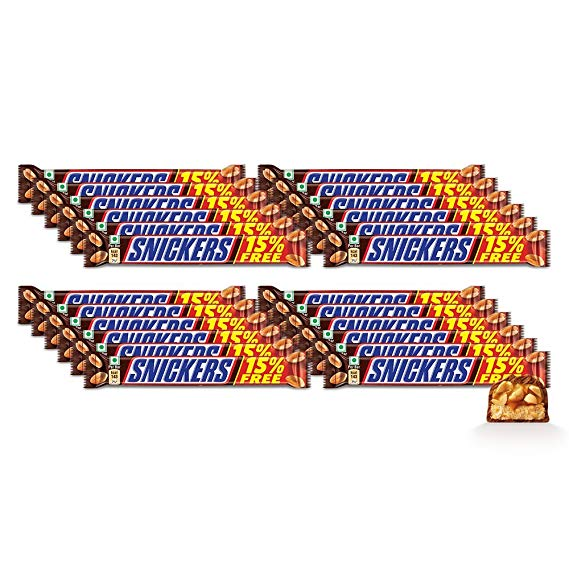snickers: (364, 358, 475, 382), (366, 235, 476, 259), (128, 360, 238, 382), (129, 359, 239, 381), (127, 238, 234, 260), (329, 317, 437, 334), (358, 222, 463, 236), (81, 183, 182, 197), (322, 183, 423, 197), (63, 290, 170, 303), (91, 197, 196, 210), (118, 222, 220, 235), (119, 344, 226, 356), (319, 306, 424, 318), (92, 317, 197, 329), (105, 209, 208, 221), (308, 168, 411, 180), (360, 345, 463, 357), (308, 289, 411, 301), (347, 209, 449, 221), (64, 170, 171, 181), (334, 197, 437, 208), (76, 306, 183, 316), (345, 331, 450, 341), (76, 306, 184, 315), (105, 332, 211, 339)
